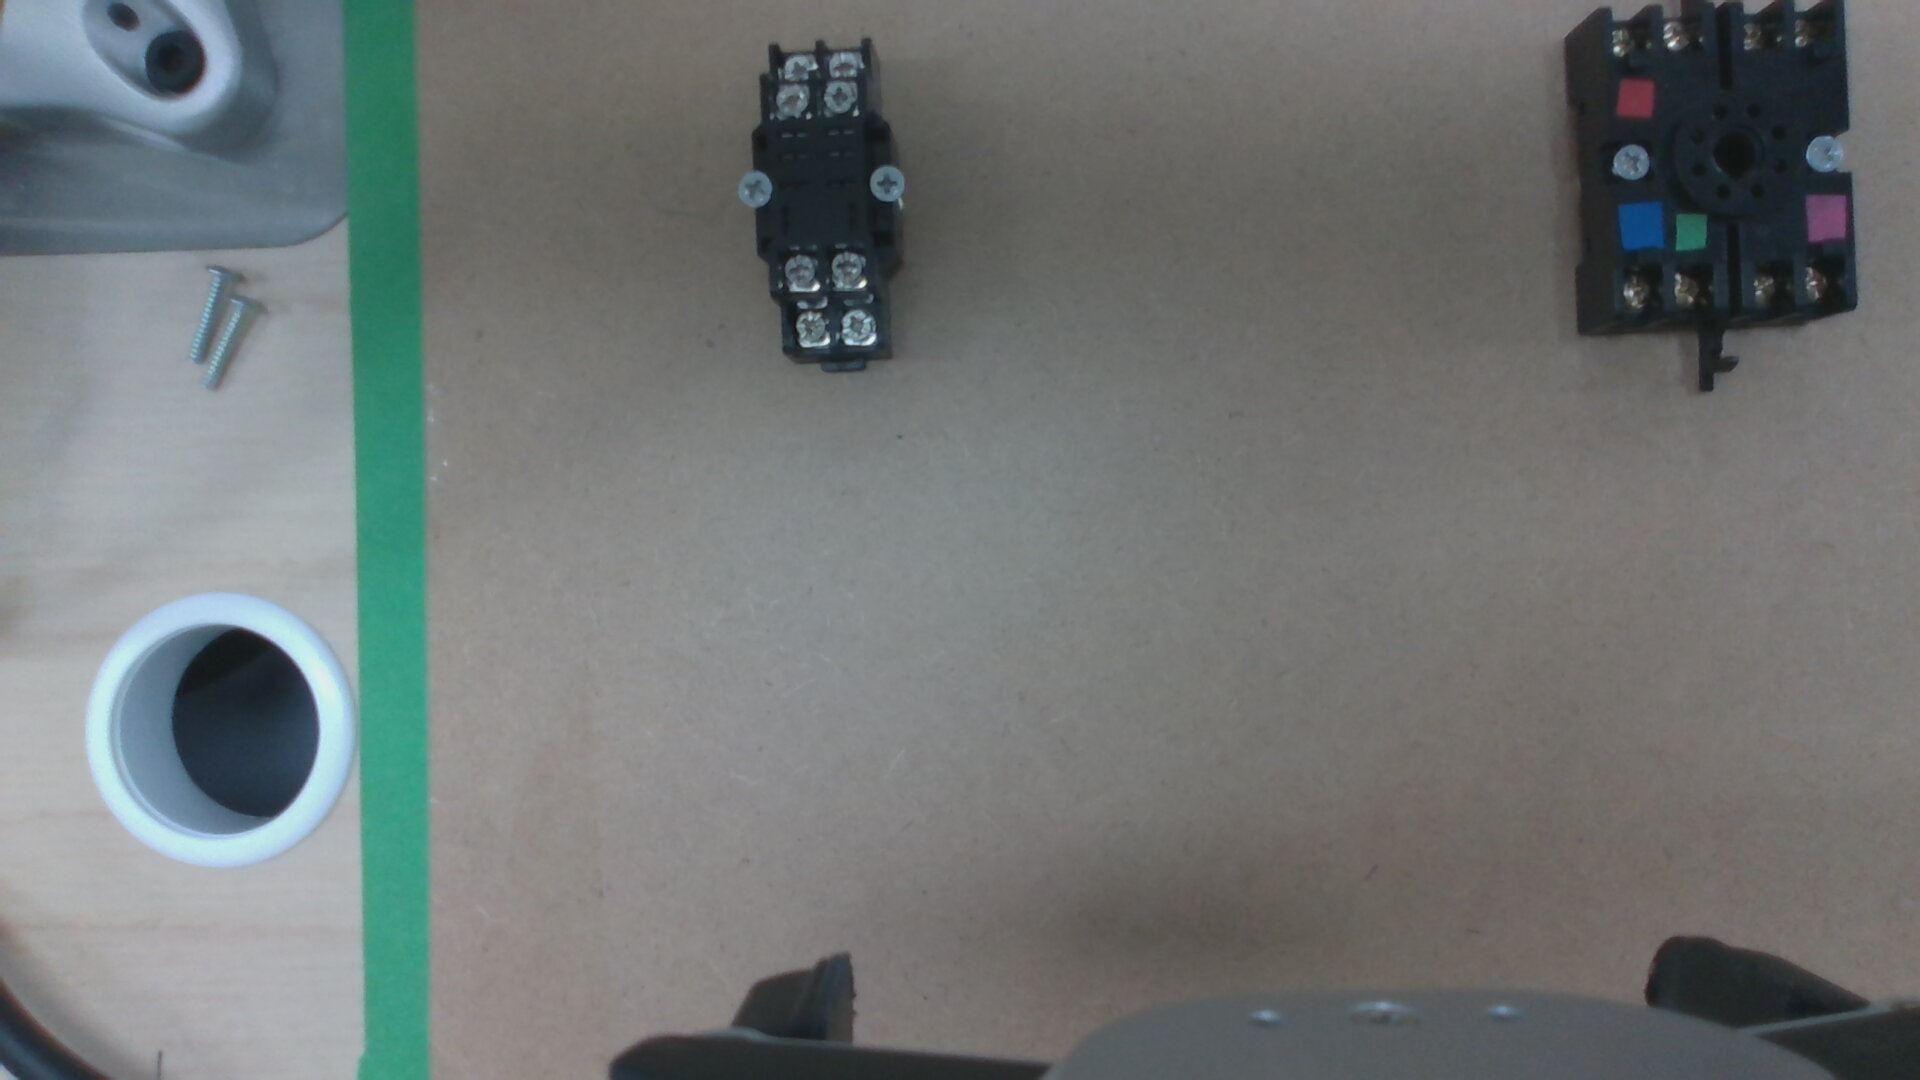relay 3: (825, 53, 858, 76)
relay 4: (779, 57, 810, 76)
relay 5: (839, 313, 873, 343)
relay 6: (794, 314, 827, 342)
relay 7: (829, 256, 862, 284)
relay 8: (782, 256, 818, 287)
